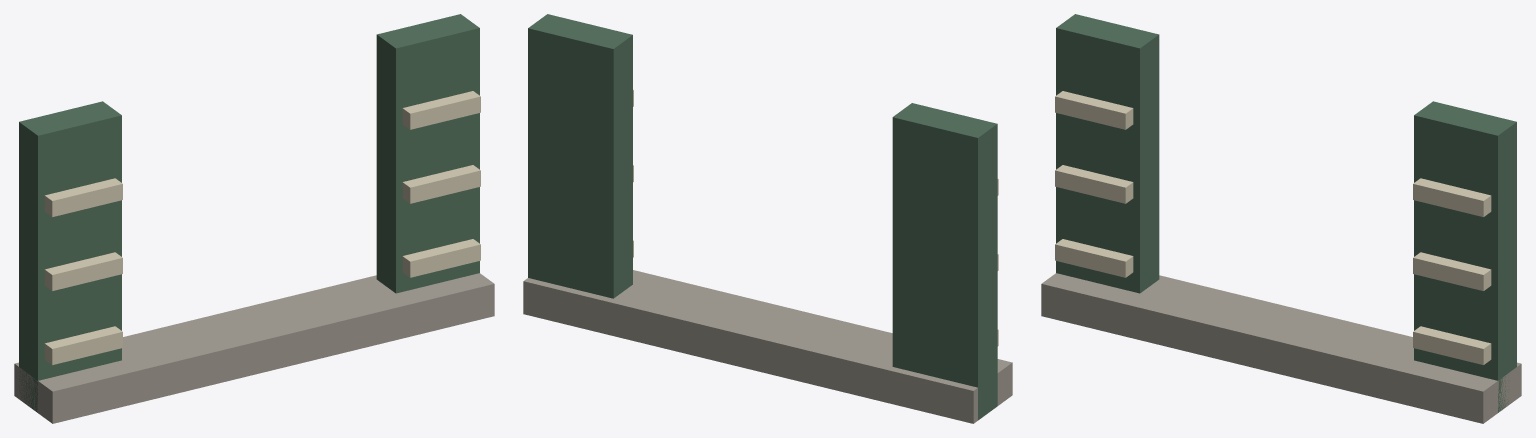
The model's file is building-residential-window-shutters.glb.
The picture shows the model from 3 angles, left to right: view 1: azimuth 30°, elevation 25°; view 2: azimuth 150°, elevation 25°; view 3: azimuth 330°, elevation 25°; orthographic projection.
Parts seen in each view (by area): view 1: frontage; view 2: frontage; view 3: frontage.
Boxes of the visible parts, x1,y1,x2,y2 form: frontage: (14, 14, 494, 423); frontage: (523, 14, 1012, 423); frontage: (1041, 14, 1521, 423).
Bounding box in the file's own units: 1 × 0.6 × 0.15.
